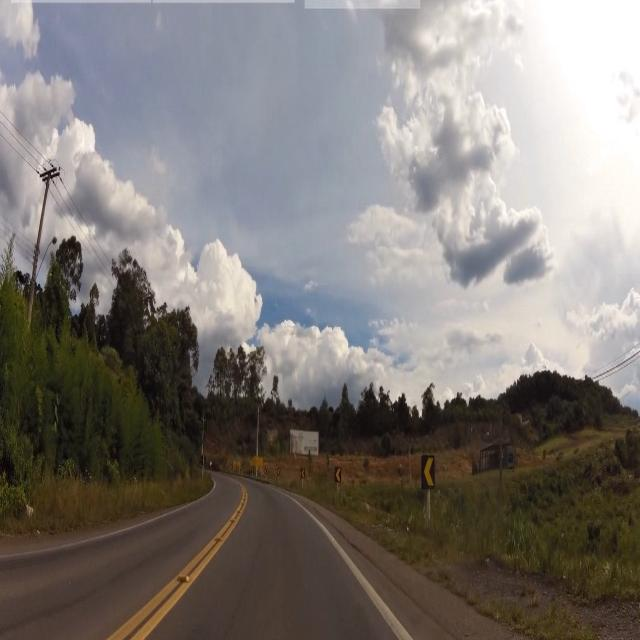Del: (420, 451, 434, 492), (333, 464, 343, 483)
